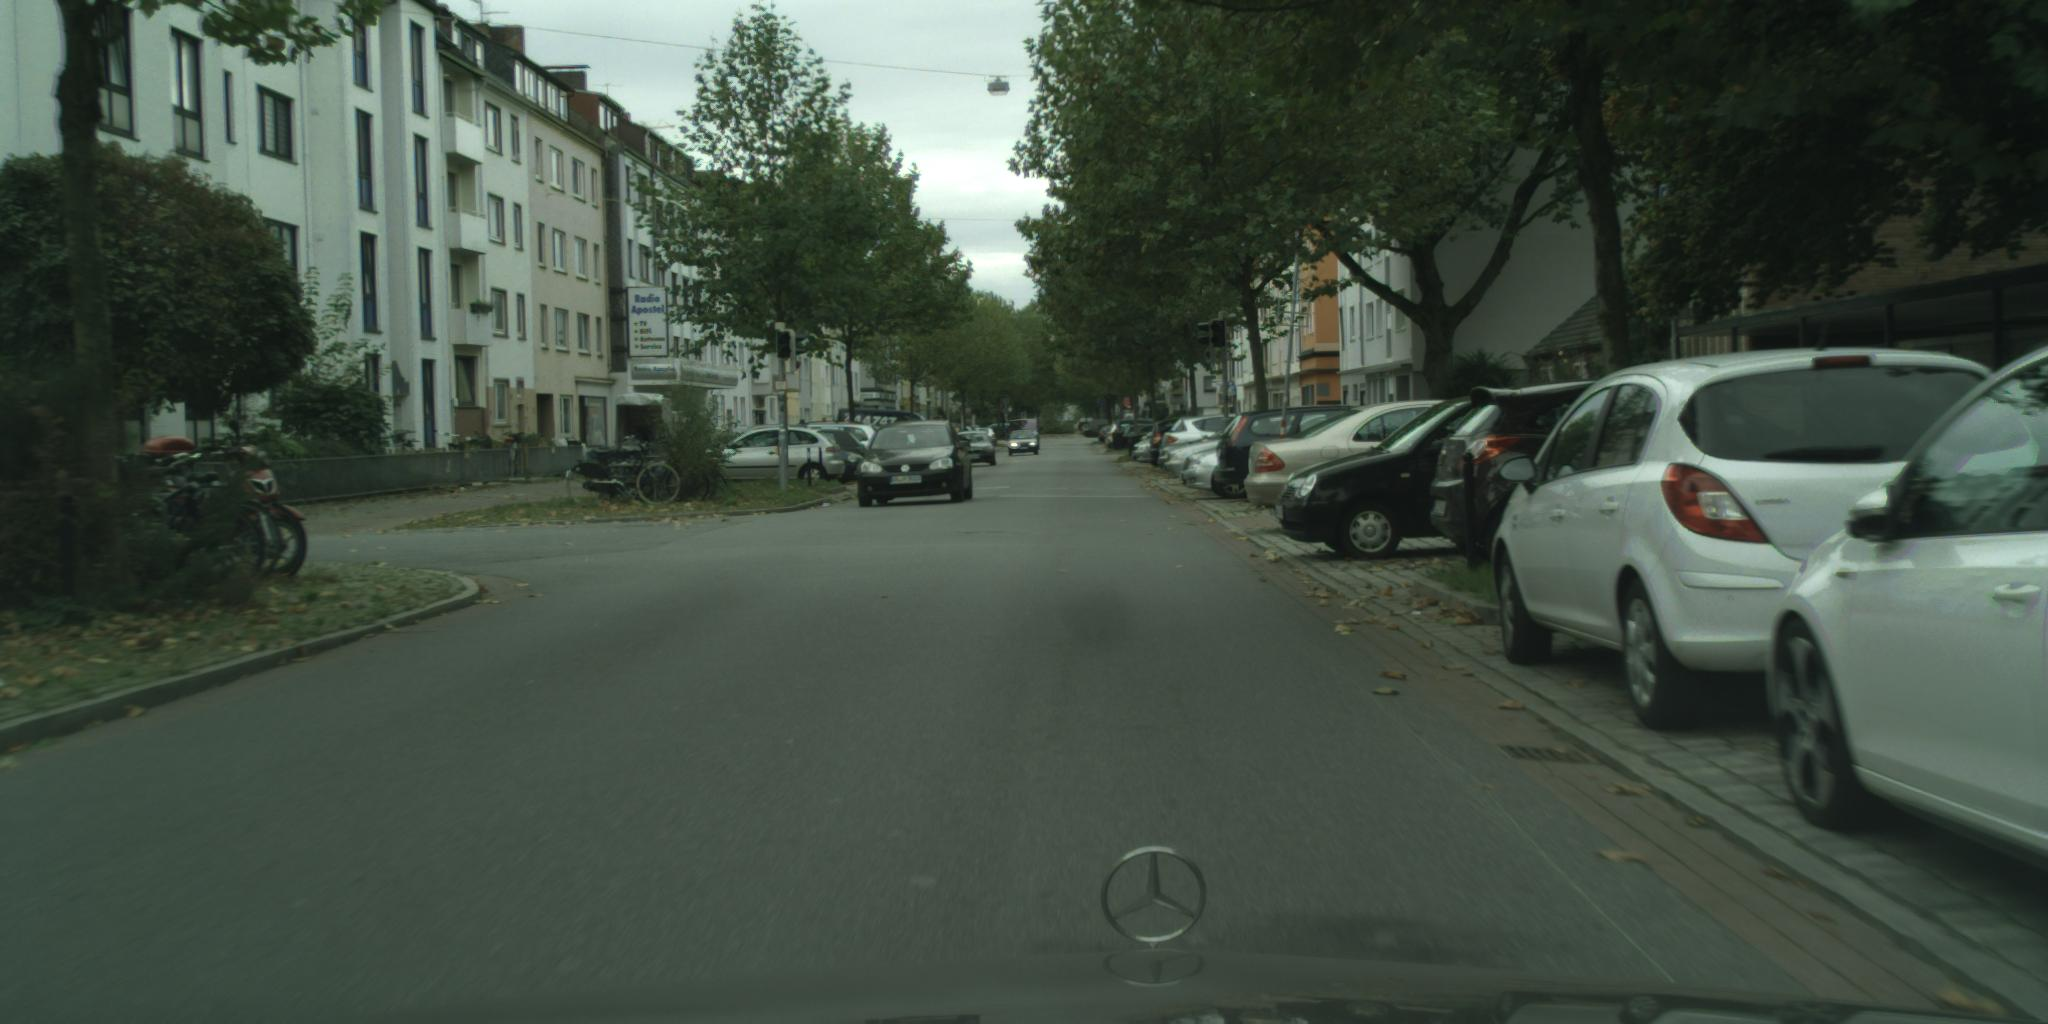bicycle: (505, 434, 526, 485)
car: (1492, 347, 2027, 733), (1767, 347, 2048, 875), (1275, 398, 1505, 562), (1432, 381, 1631, 568), (1243, 400, 1472, 508), (1217, 408, 1364, 485), (856, 423, 974, 509), (737, 426, 872, 485), (707, 428, 846, 485), (1160, 415, 1246, 472), (1166, 434, 1262, 475), (1183, 448, 1253, 504), (798, 423, 888, 466), (837, 409, 927, 443), (807, 430, 871, 468), (1149, 424, 1185, 468), (953, 434, 997, 468), (1008, 421, 1041, 451), (1008, 431, 1040, 457), (1132, 436, 1155, 464)
